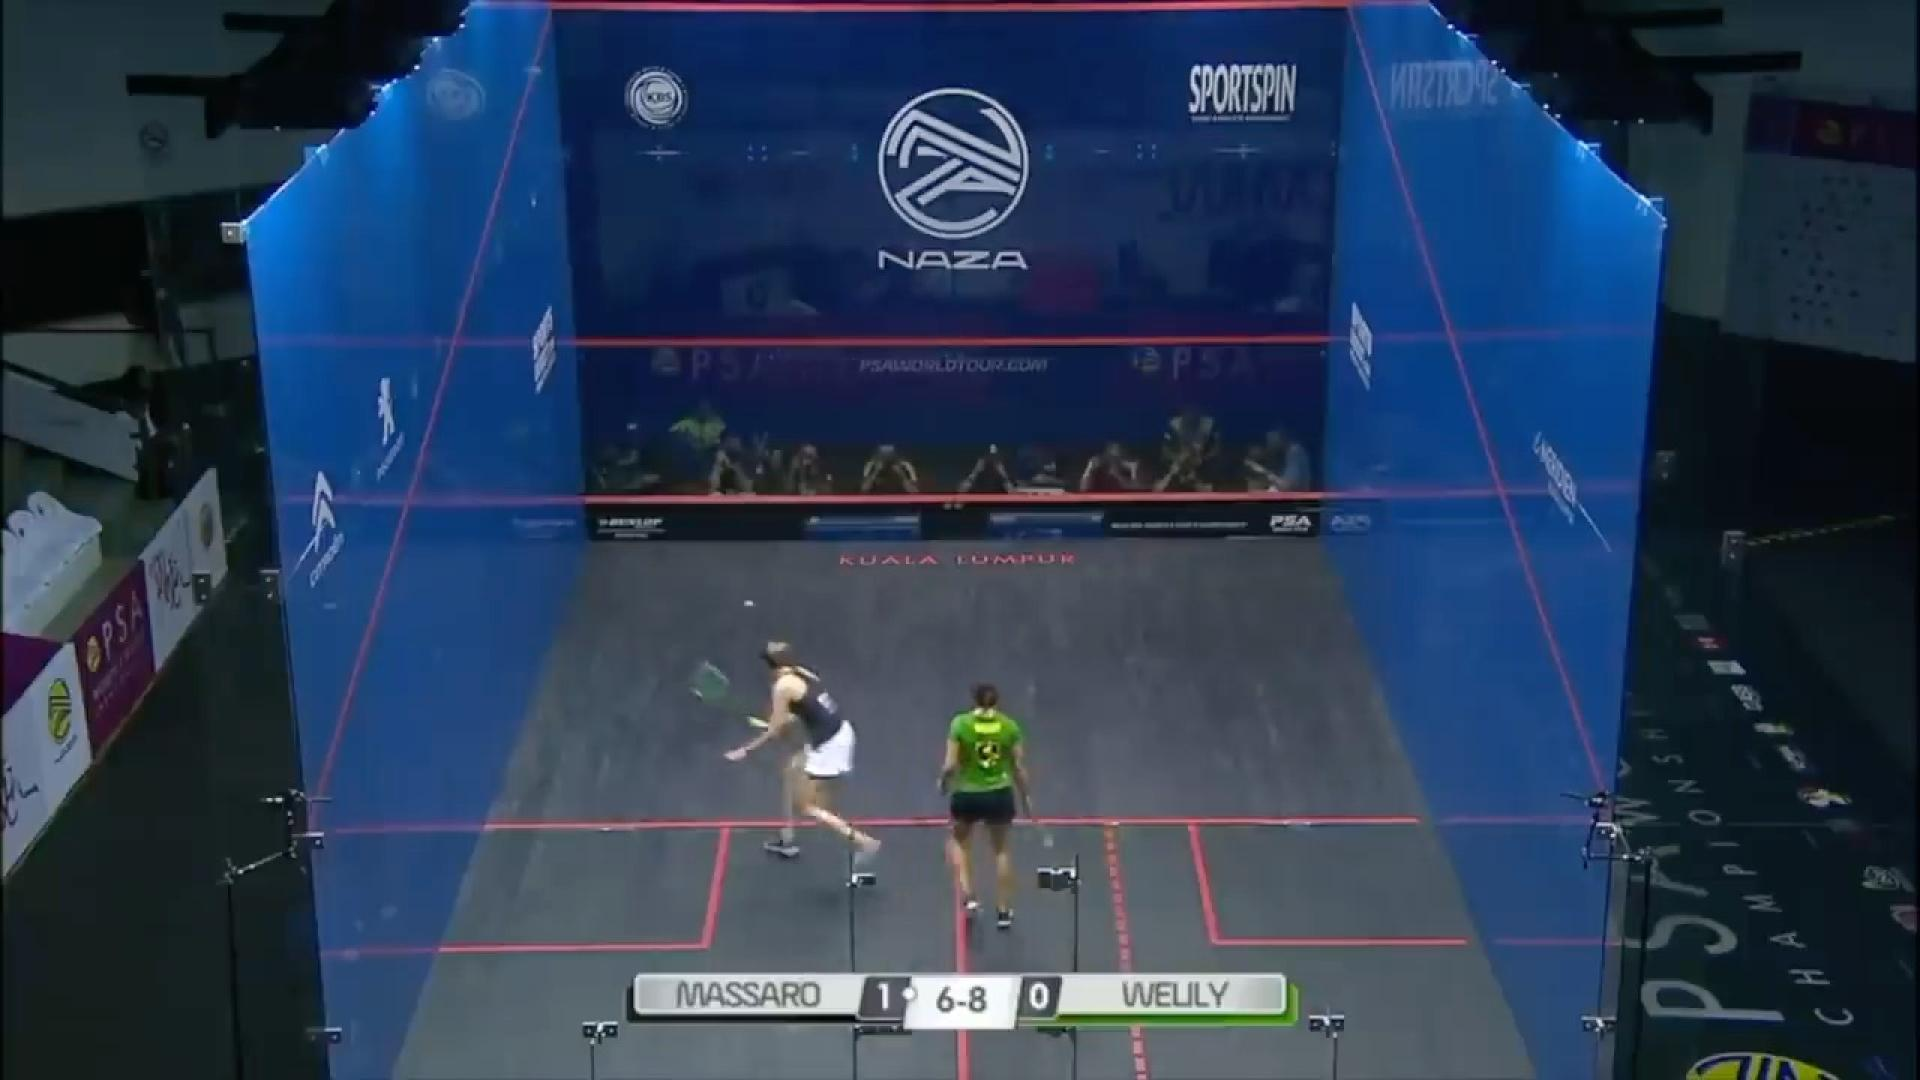Squash-Ball: (740, 588, 765, 620)
